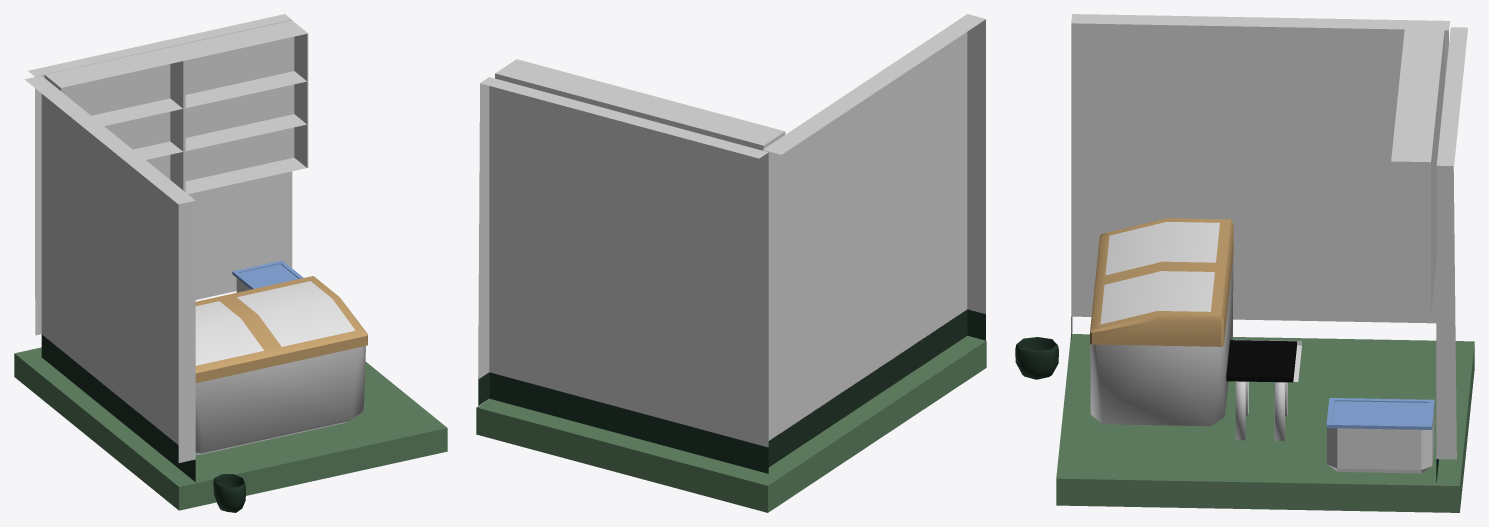
Rendered from store1.0.glb.
3 renders of one model, left to right at view 1: azimuth 30°, elevation 25°; view 2: azimuth 150°, elevation 25°; view 3: azimuth 270°, elevation 25°, orthographic. The views are drawn at different scales.
Visible parts, largest first — view 1: Wall L.001, FloatingTable, Floor, Wall L.003, Body.001, Glasses, Lid, BlueBox, Trash; view 2: Wall L.003, Wall L.001, Floor, FloatingTable; view 3: Wall L.001, Floor, FloatingTable, Body.001, Glasses, Wall L.003, Lid, BlueBox, Table, Trash.
Boxes of the visible parts, <box> form: Wall L.001: <box>24,75,195,481</box>; FloatingTable: <box>44,20,308,194</box>; Floor: <box>14,347,447,510</box>; Wall L.003: <box>28,14,292,335</box>; Body.001: <box>195,346,365,454</box>; Glasses: <box>195,281,355,365</box>; Lid: <box>195,276,367,383</box>; BlueBox: <box>232,260,303,292</box>; Trash: <box>213,474,245,512</box>; Wall L.003: <box>478,77,768,473</box>; Wall L.001: <box>762,14,985,467</box>; Floor: <box>476,335,986,512</box>; FloatingTable: <box>495,59,785,150</box>; Wall L.001: <box>1071,14,1449,339</box>; Floor: <box>1056,334,1474,512</box>; FloatingTable: <box>1391,28,1444,314</box>; Body.001: <box>1090,255,1233,426</box>; Glasses: <box>1100,221,1219,324</box>; Wall L.003: <box>1436,27,1467,481</box>; Lid: <box>1090,218,1233,346</box>; BlueBox: <box>1326,398,1434,473</box>; Table: <box>1226,340,1296,440</box>; Trash: <box>1015,337,1058,379</box>.
Bounding box in the file's own units: 1.78 × 1.91 × 2.27.
